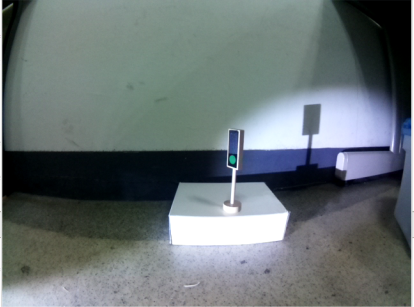Green: (224, 124, 246, 171)
